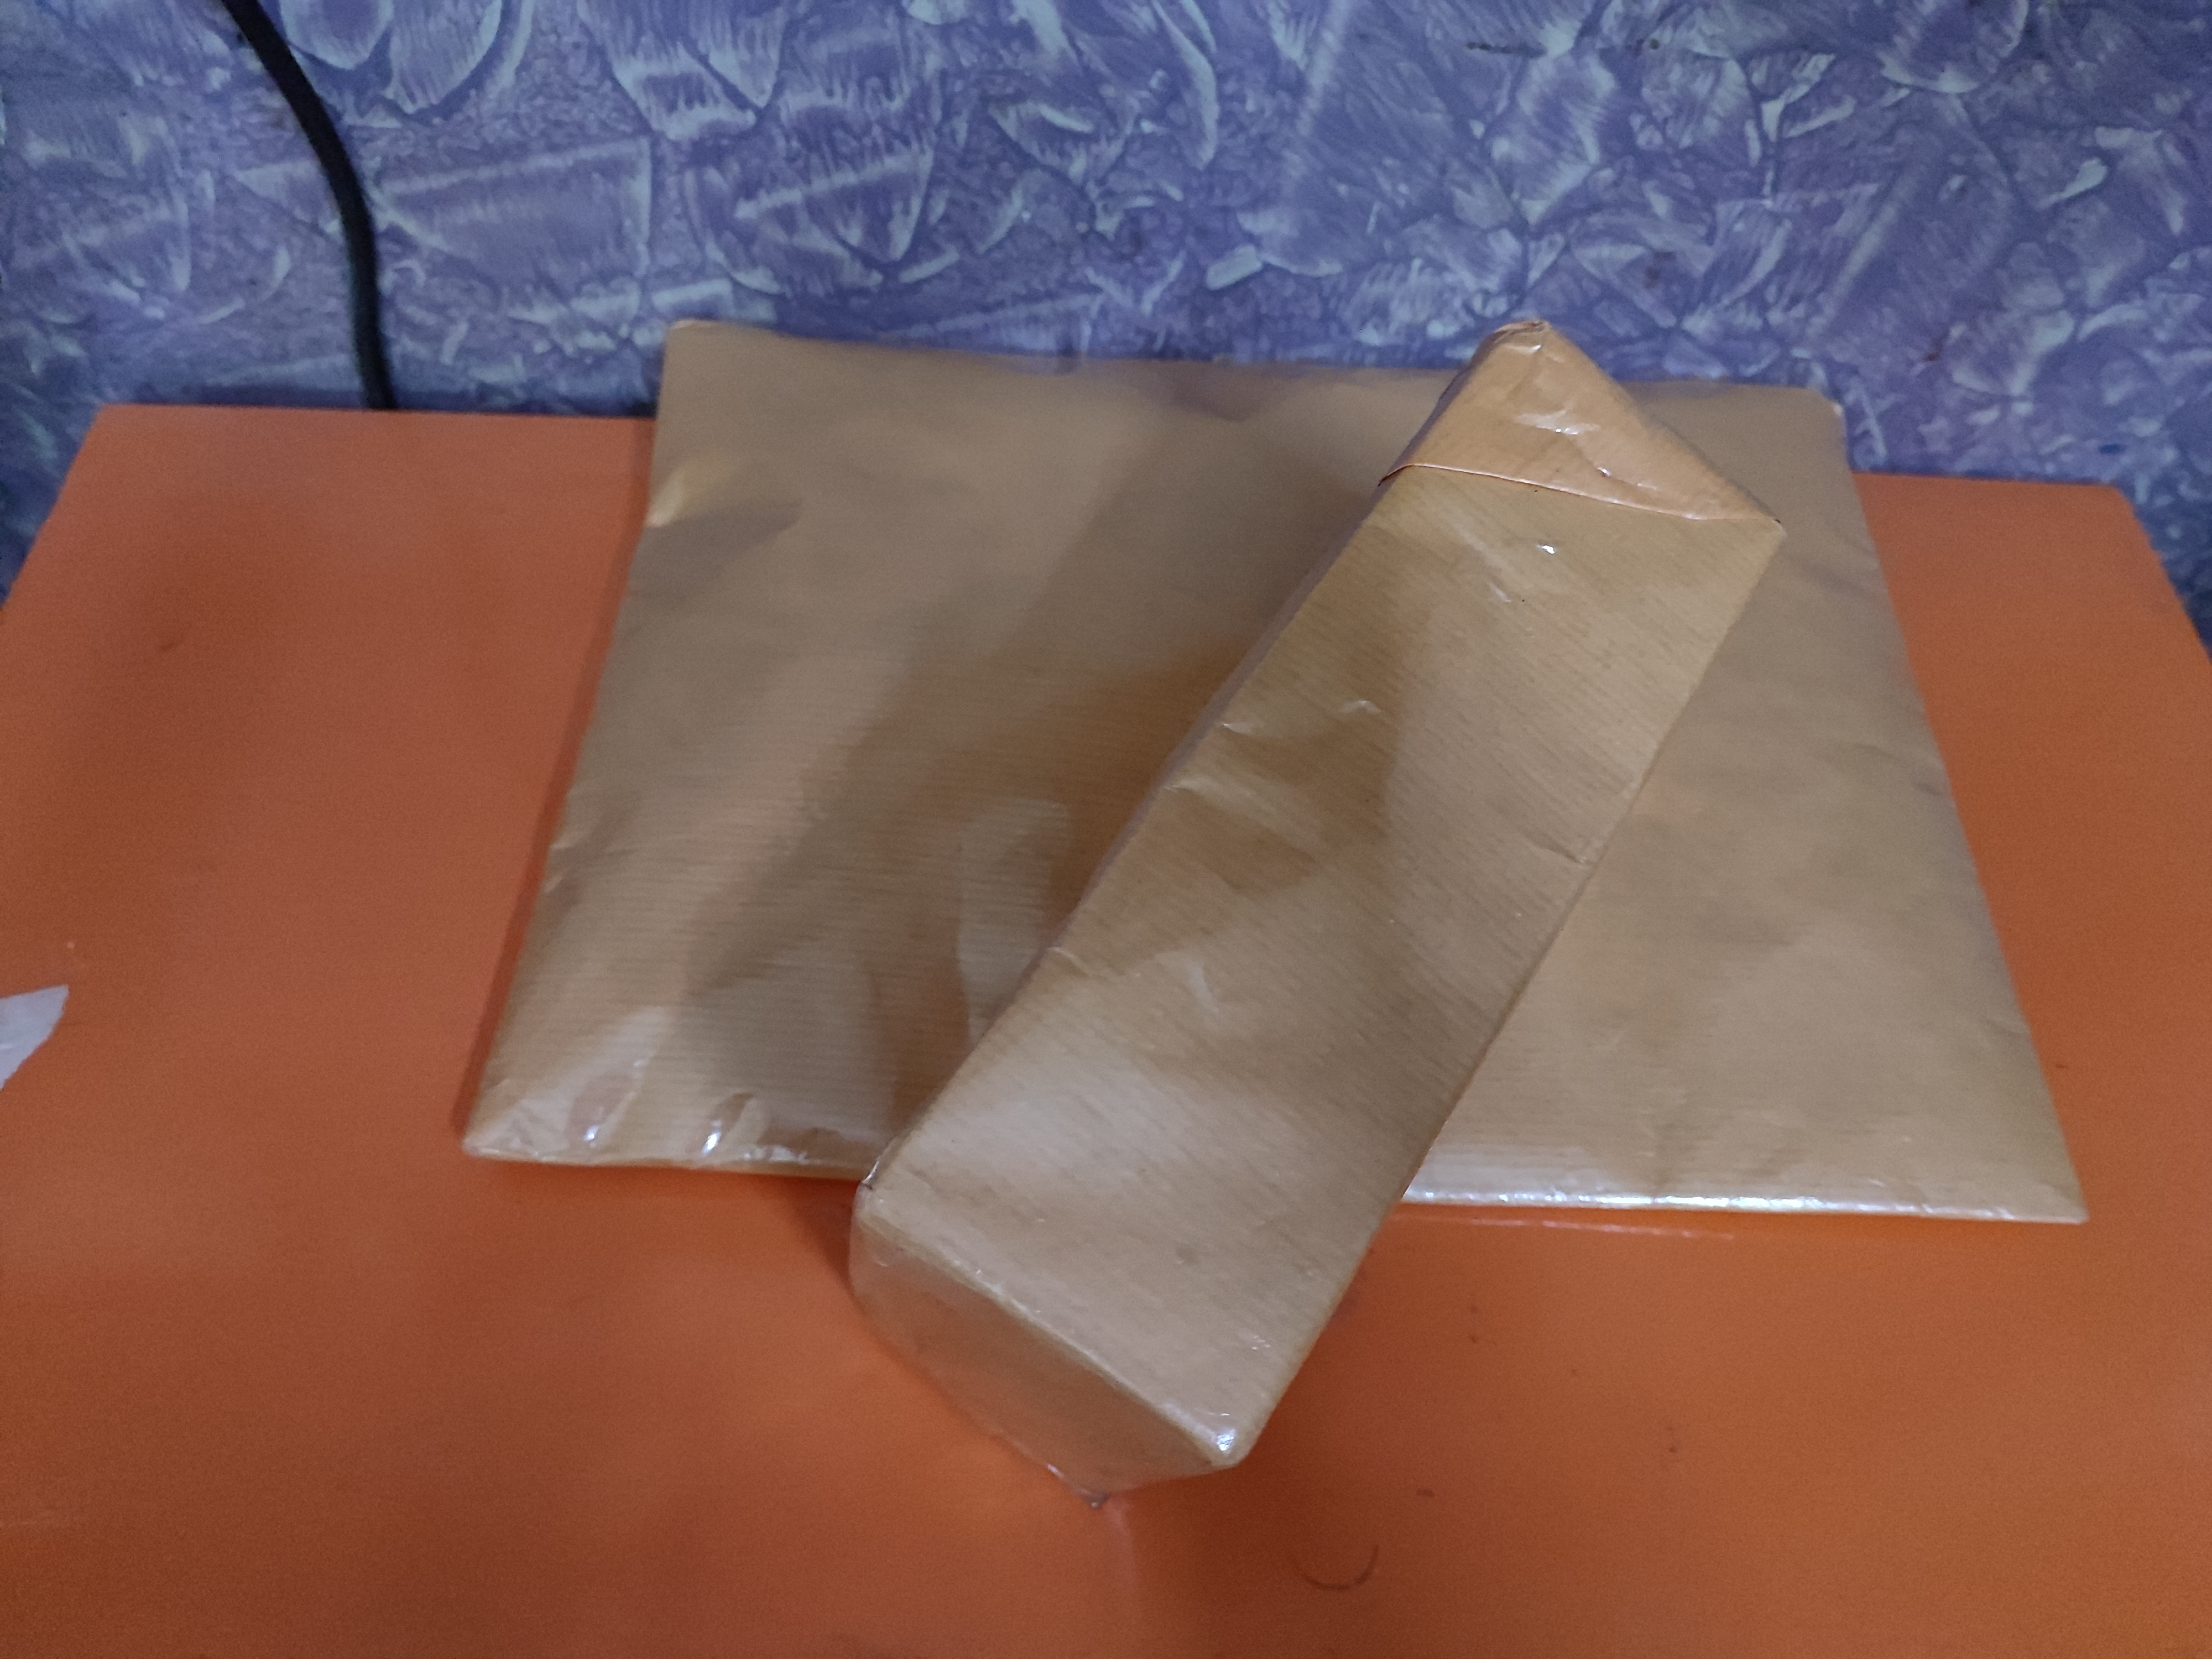Box: (514, 227, 2005, 1342), (838, 274, 1764, 1598)
